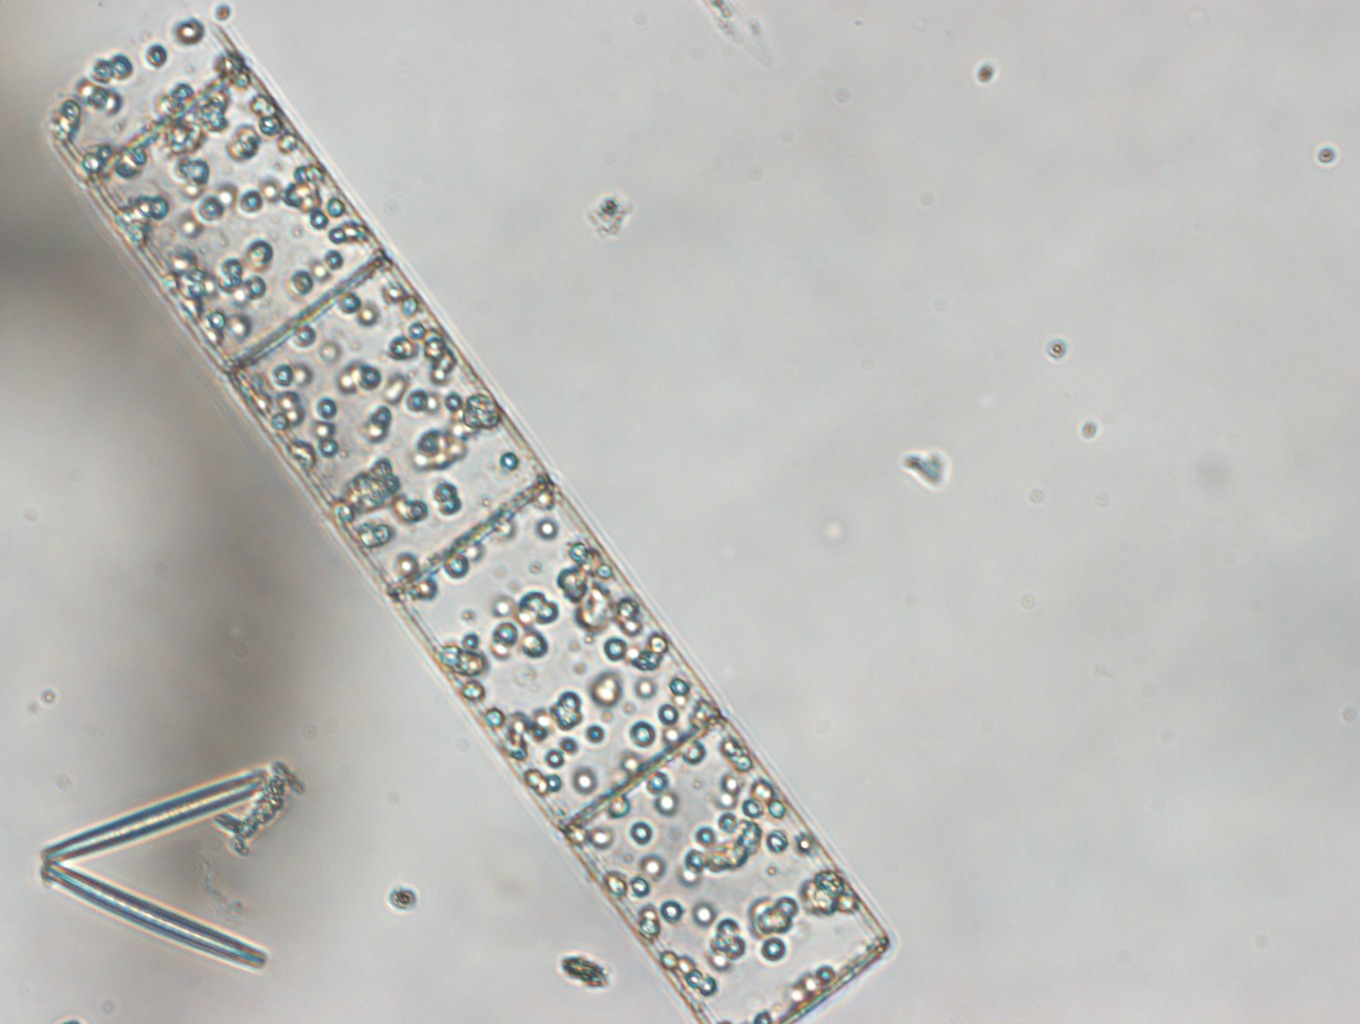guinardia flaccida: (46, 16, 891, 1024)
thalassionema nitzschioides: (41, 769, 274, 977)
